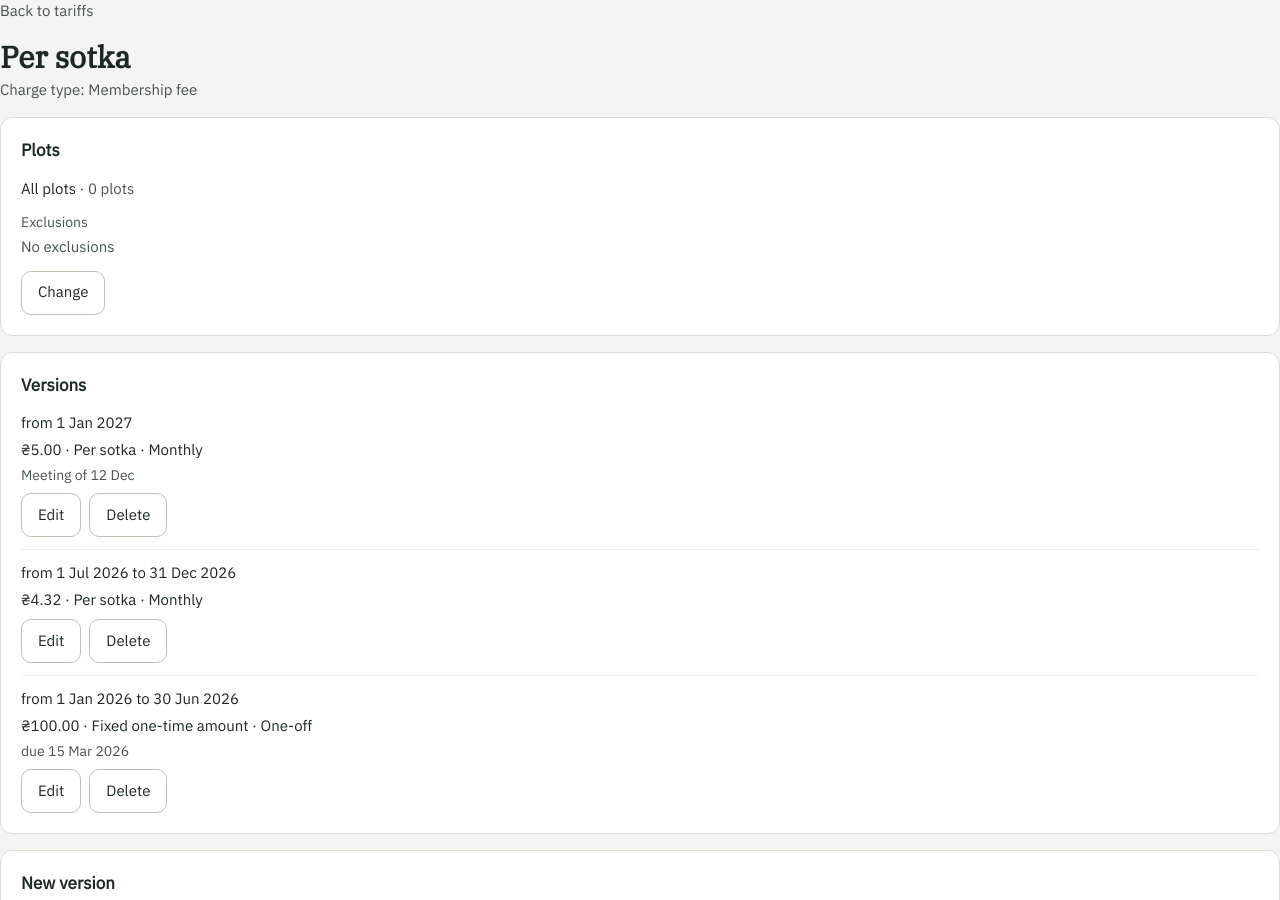
Scenario: TariffPage › says a tariff must keep a version when the last one is deleted
Click the button "Delete" below "from 1 Jan 2027" at (128, 515), box 89,493 -> 167,537
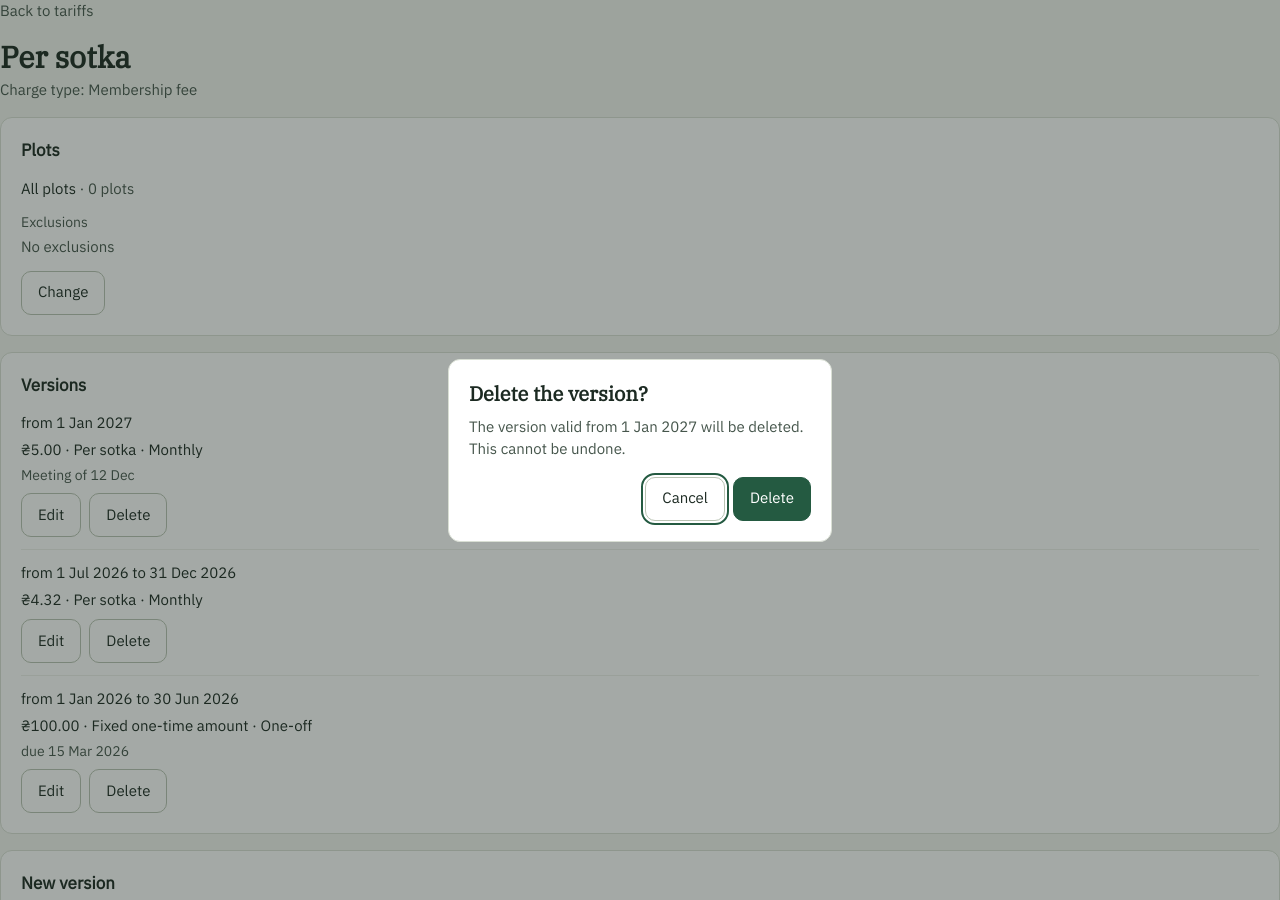
Click the button "Delete" at (772, 498), box 733,476 -> 811,520
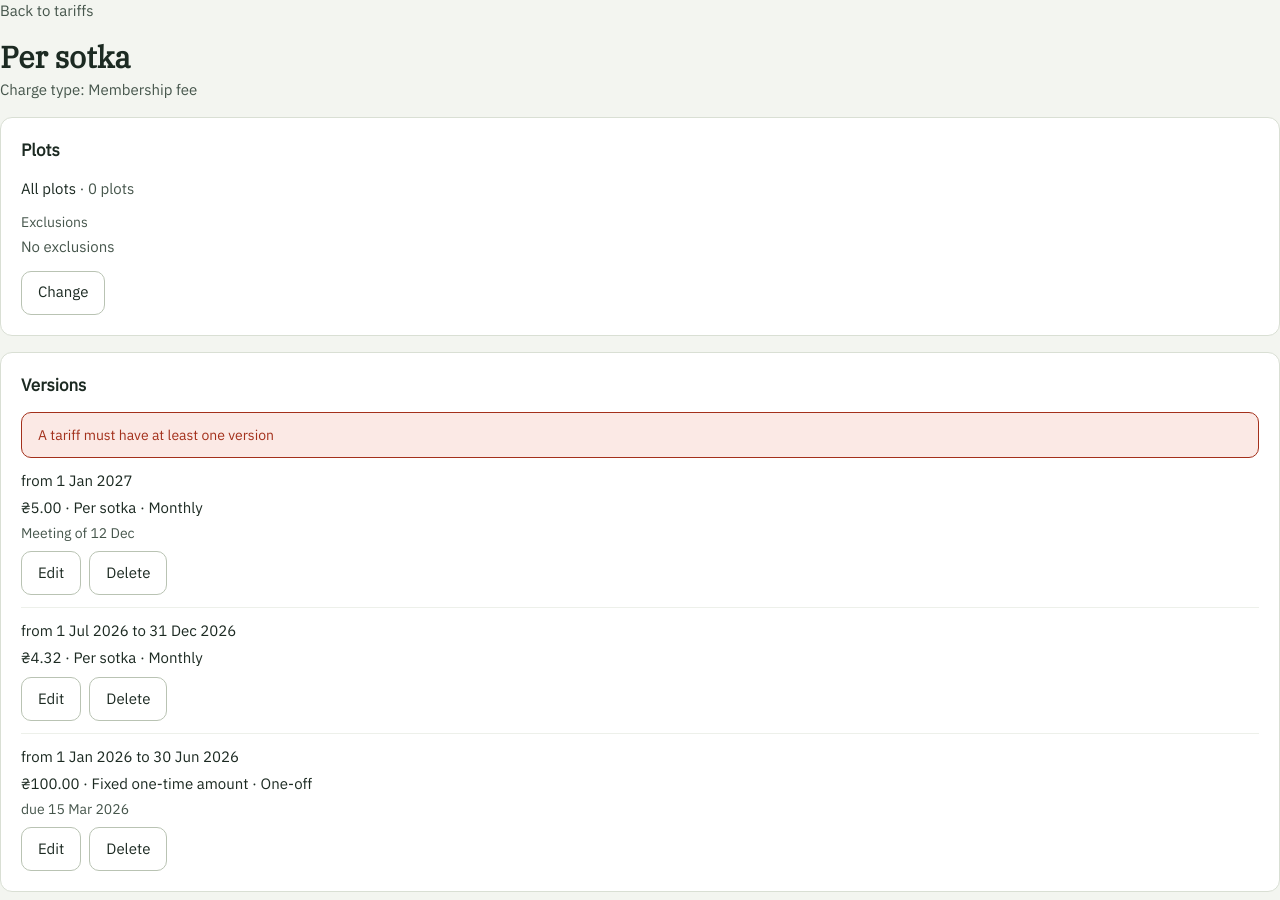
Now the text "A tariff must have at least one version" is shown, box 21,412 -> 1259,458
